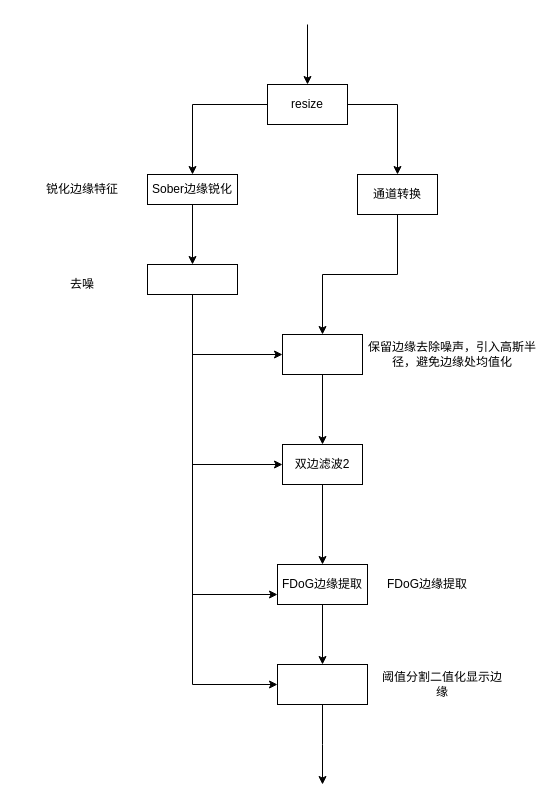
Some shapes in this 554 by 810 pixel diagram are drawn without their labels. Each missing label, with the centre of its shape:
FDoG1边缘提取: [322,684]
双边滤波1: [322,354]
高斯滤波: [192,279]
